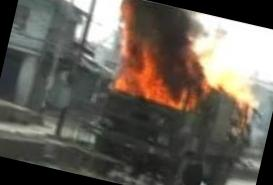Fire: (113, 46, 204, 110), (212, 70, 262, 108)
Smoke: (124, 0, 221, 92)
